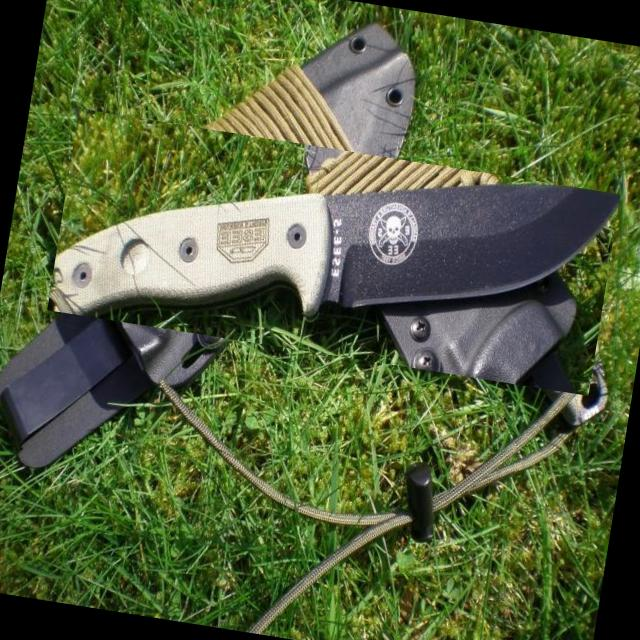Knife: (56, 186, 620, 316)
